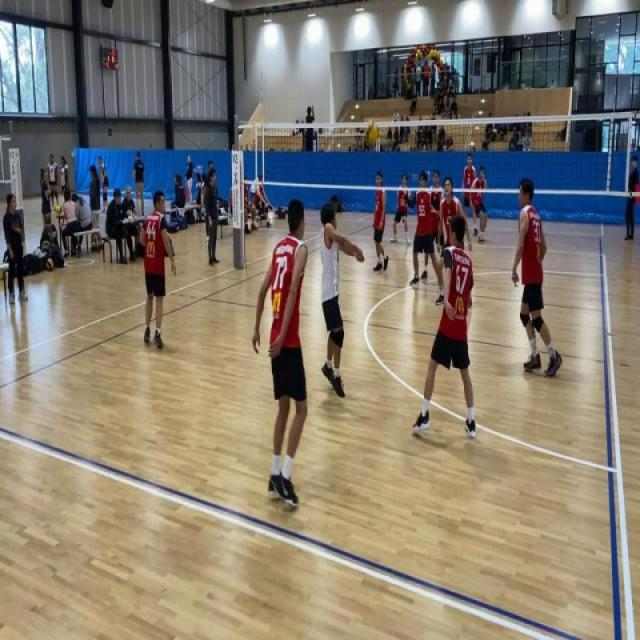volleyball: (366, 122, 378, 145), (46, 257, 54, 271), (54, 203, 62, 216), (252, 136, 256, 144), (167, 231, 170, 238)
